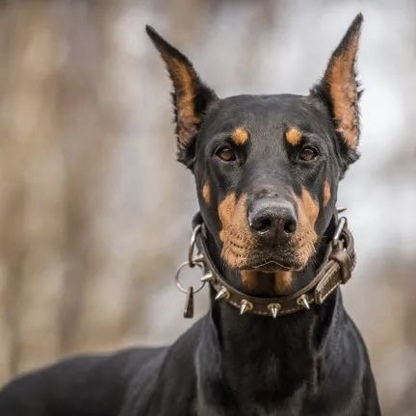doberman: (145, 15, 400, 416)
